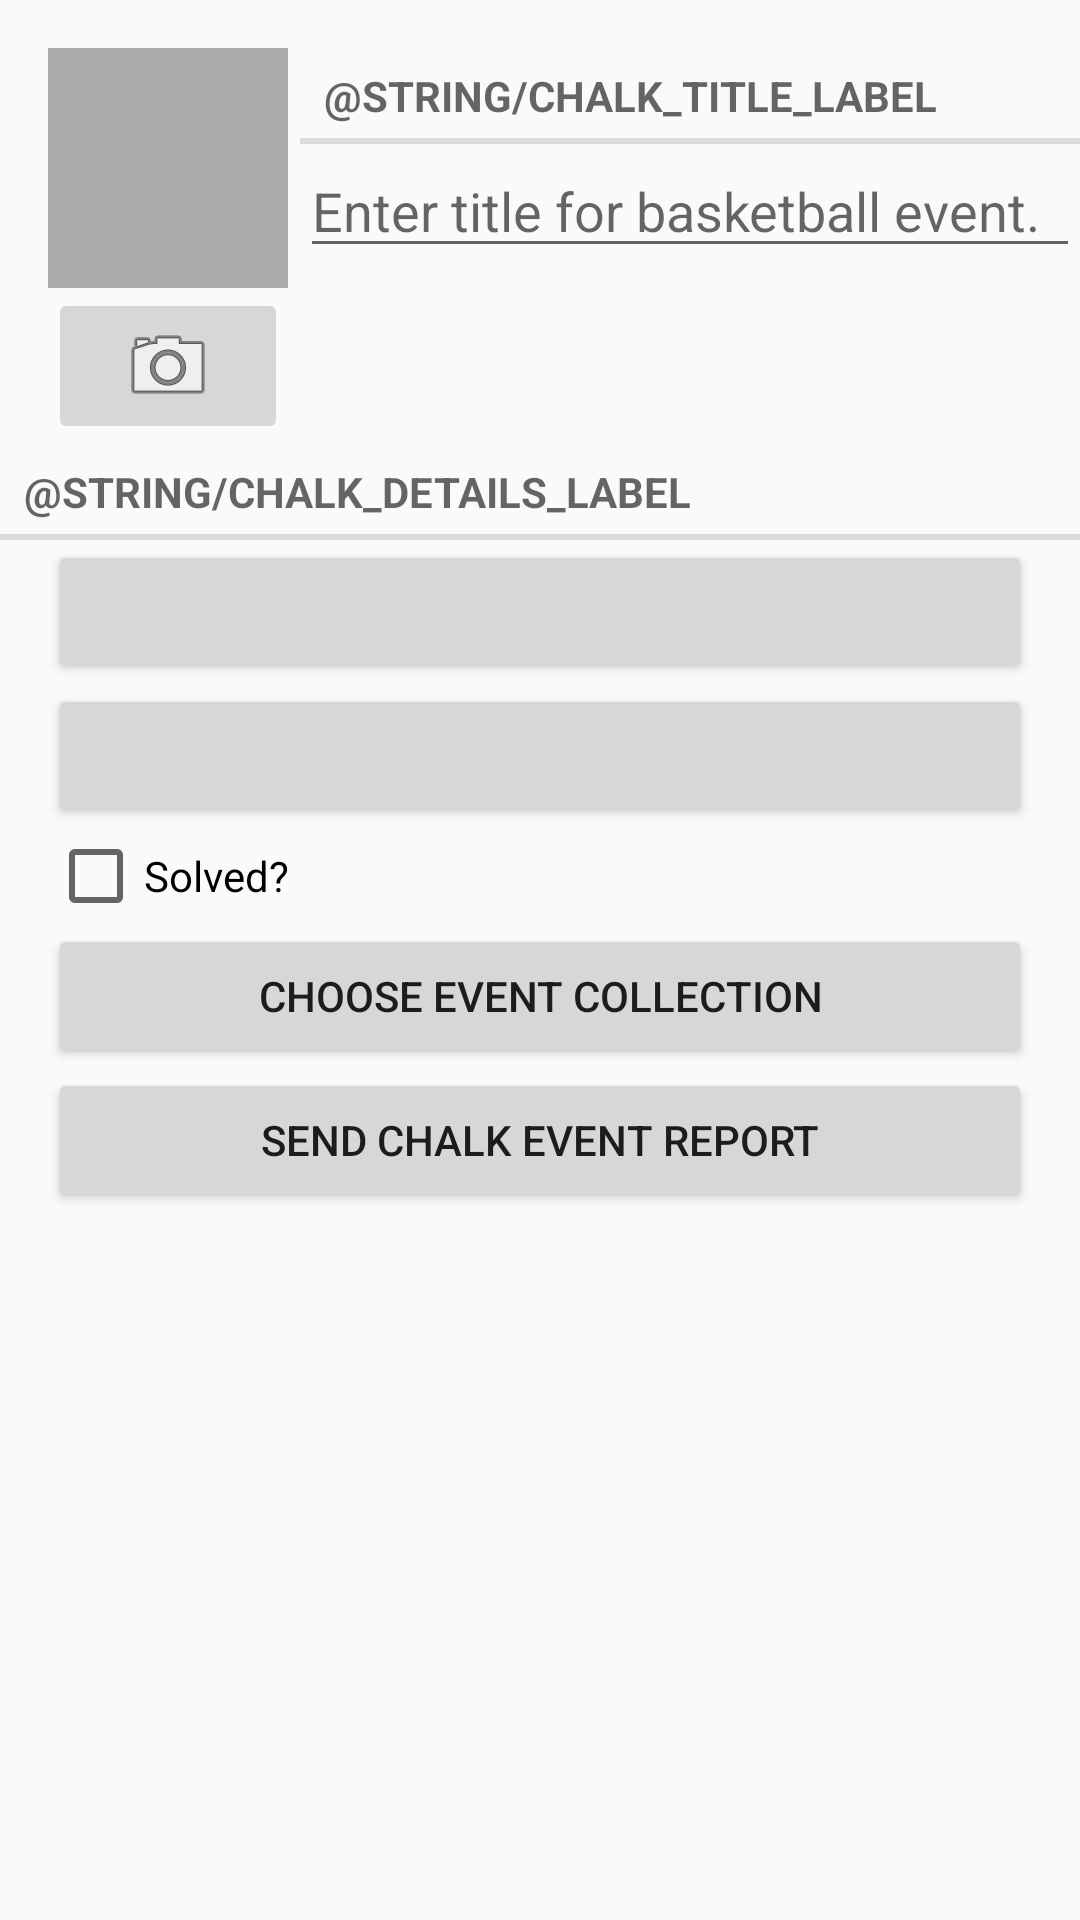

Screen size 1080×1920. Icon name, then its center in pixels as [x,y]:
camera: [168,366]
